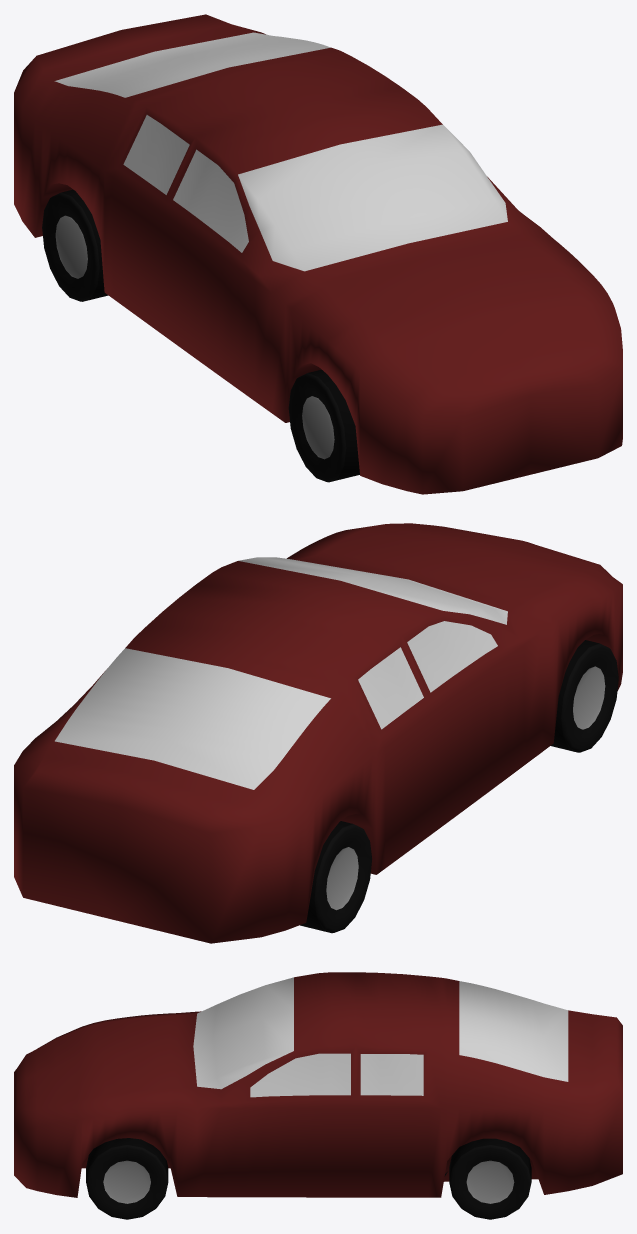
The model's file is BasicCar.fbx.
3 views of the same model, one above another, from view 1: azimuth 30°, elevation 25°; view 2: azimuth 150°, elevation 25°; view 3: azimuth 270°, elevation 25° (orthographic). The views are drawn at different scales.
Parts seen in each view (by area): view 1: Box002, WheelFR, WheelRR; view 2: Box002, WheelFR, WheelRR; view 3: Box002, WheelFL, WheelRL.
Part boxes in pixels (x1,y1,x2,y2): Box002: (14, 14, 622, 494); WheelFR: (288, 369, 359, 482); WheelRR: (42, 189, 108, 301); Box002: (14, 523, 622, 943); WheelFR: (551, 640, 618, 752); WheelRR: (300, 821, 371, 933); Box002: (14, 972, 622, 1197); WheelFL: (86, 1138, 168, 1219); WheelRL: (449, 1138, 531, 1219).
Size of the model in its own units: 194 by 151 by 503.
